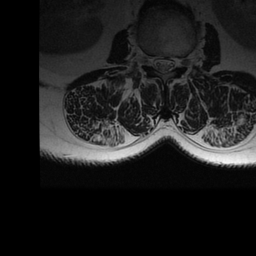CCS_normal: (160, 50, 167, 79)
LFS_normal: (175, 52, 183, 74)
LLS_normal: (167, 53, 175, 75)
RFS_normal: (143, 48, 151, 72)
RLS_normal: (152, 50, 159, 75)
